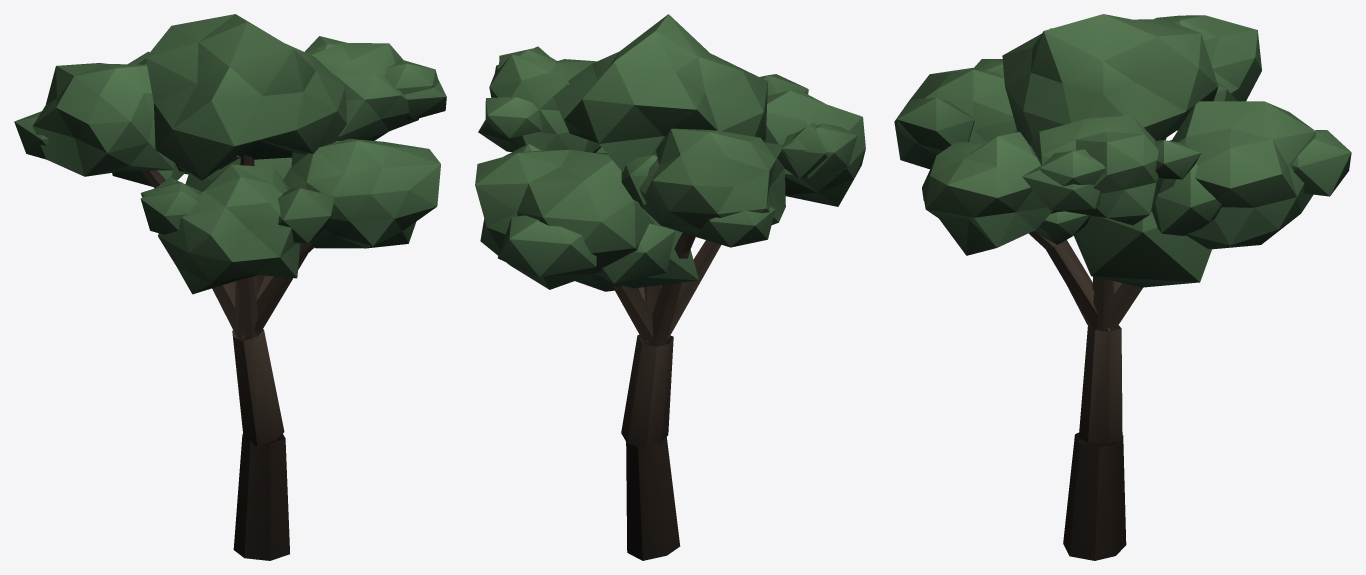
The model's file is baum_kueste1.glb.
The picture shows the model from 3 angles, left to right: view 1: azimuth 30°, elevation 25°; view 2: azimuth 150°, elevation 25°; view 3: azimuth 270°, elevation 25°; orthographic projection.
Visible parts, largest first — view 1: baum_kueste1; view 2: baum_kueste1; view 3: baum_kueste1.
Part boxes in pixels (bbox=[...]): baum_kueste1: bbox=[14, 14, 446, 560]; baum_kueste1: bbox=[475, 14, 865, 560]; baum_kueste1: bbox=[894, 14, 1351, 560].
Size of the model in its own units: 4.63 by 6.81 by 5.31.
